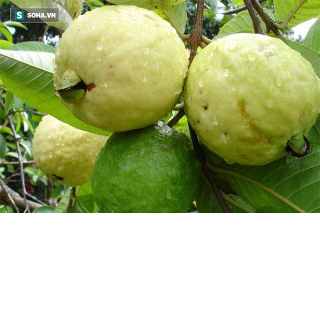oi: (185, 31, 320, 169), (51, 5, 186, 135)
